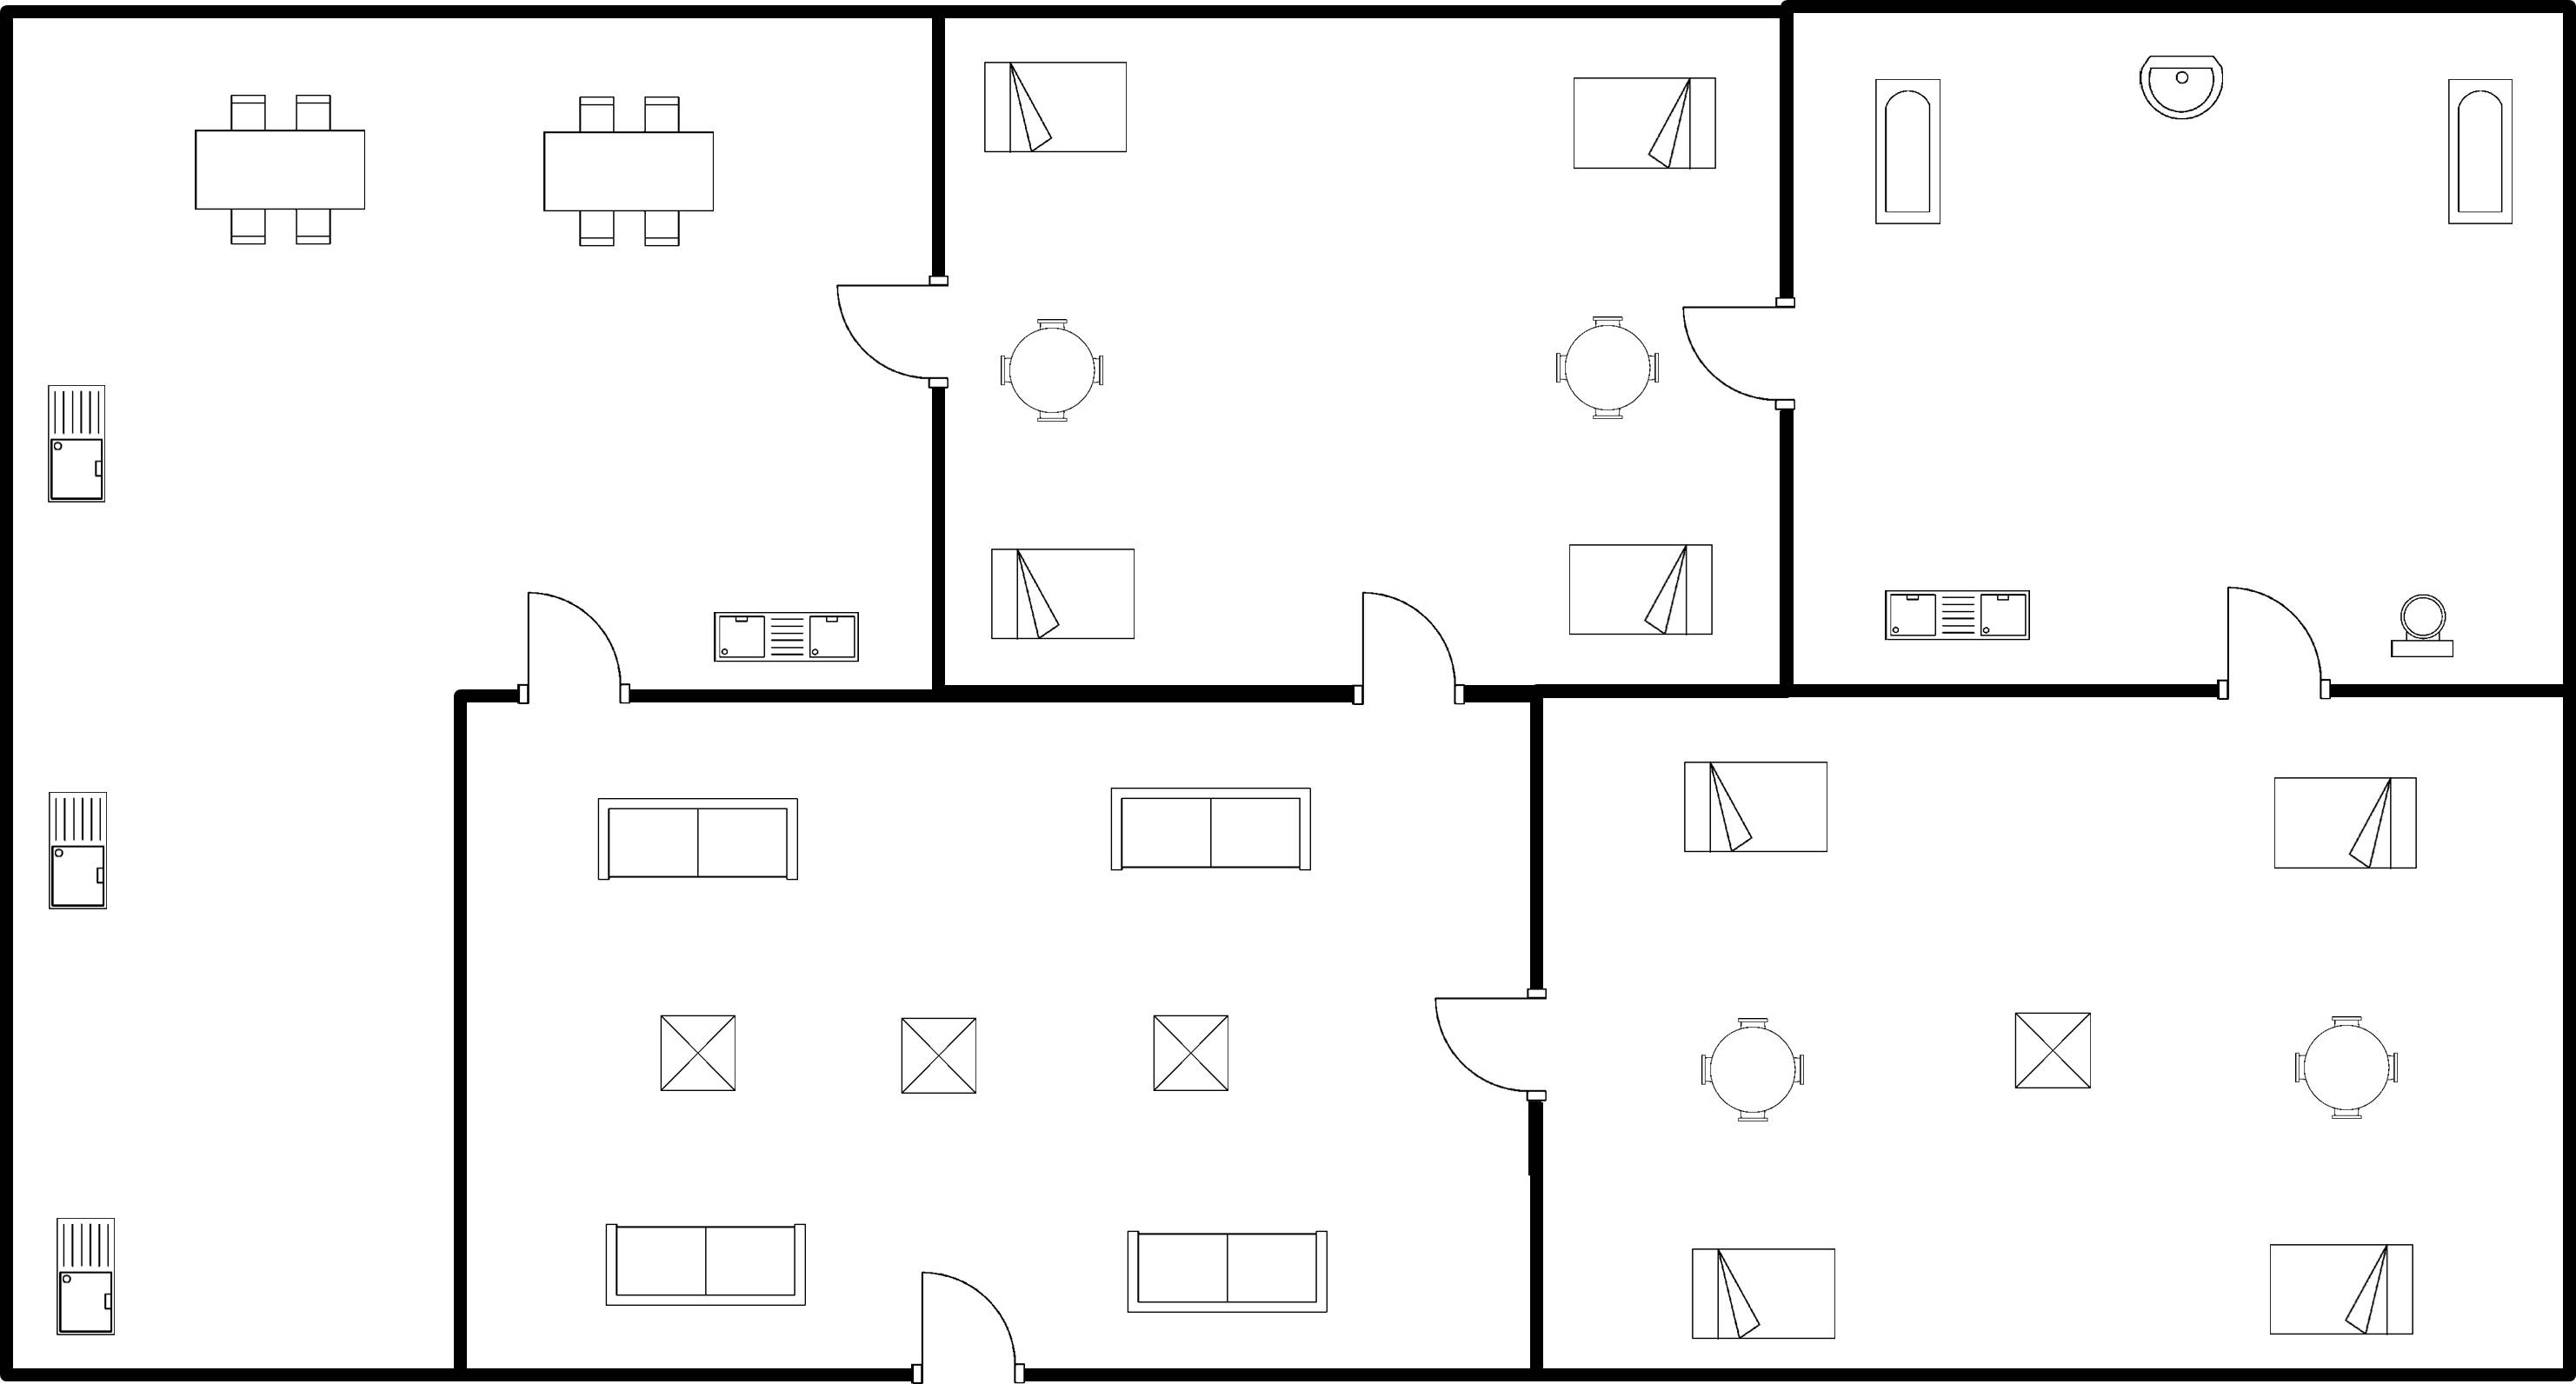bed: (1664, 749, 1849, 871), (2253, 761, 2430, 881), (982, 535, 1155, 656), (1562, 65, 1731, 185), (2258, 1227, 2425, 1348), (1681, 1238, 1856, 1352), (970, 50, 1142, 164), (1555, 535, 1721, 651)
coffee_table: (1137, 1001, 1248, 1110), (891, 1001, 993, 1114), (642, 1007, 754, 1108), (2000, 1001, 2102, 1108)
dining_table: (175, 76, 381, 264), (530, 82, 730, 257)
large_sink: (2376, 584, 2460, 675)
large_sofa: (1096, 775, 1329, 890), (582, 786, 809, 901), (591, 1215, 828, 1319)
round_table: (1541, 302, 1677, 442), (985, 302, 1116, 441), (2280, 1002, 2413, 1136), (1690, 1007, 1820, 1134)
sink: (33, 781, 122, 922), (33, 372, 116, 518), (48, 1201, 127, 1347)
small_sink: (2127, 43, 2232, 131)
tub: (2426, 63, 2532, 243), (1864, 67, 1953, 241)
twin_sink: (701, 602, 876, 677), (1871, 579, 2038, 655)
